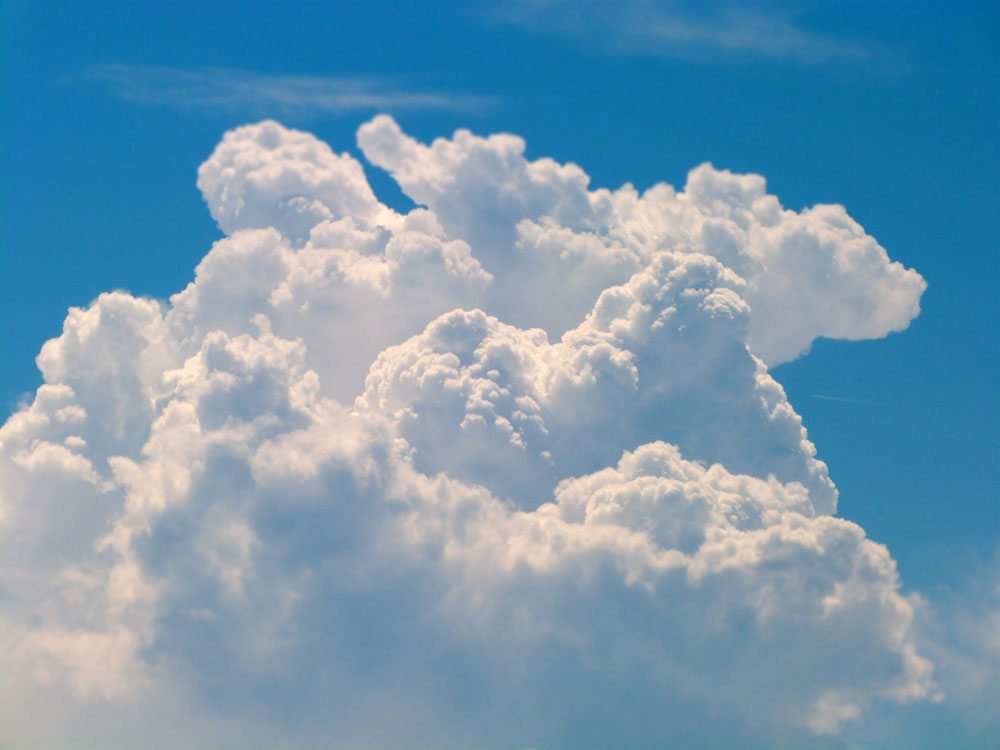Cumulus: (11, 274, 931, 750), (194, 108, 944, 379), (360, 227, 879, 549)
